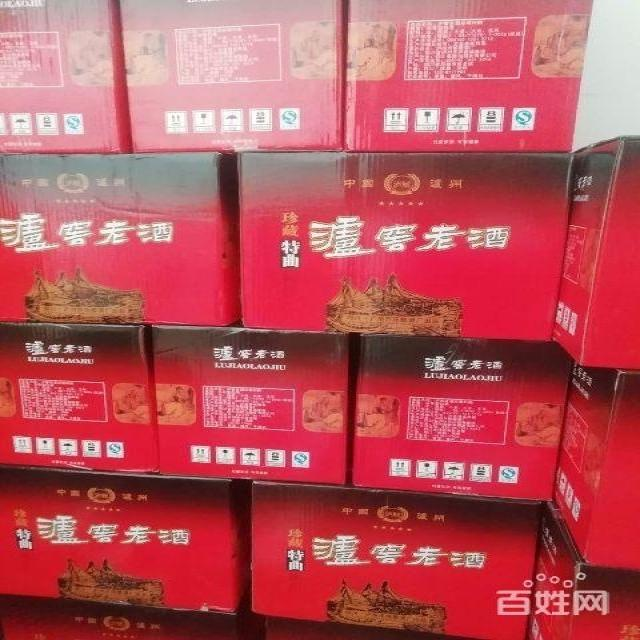box: (241, 151, 576, 338), (246, 484, 546, 638), (0, 150, 240, 330), (347, 332, 578, 500), (346, 2, 594, 152), (2, 466, 248, 616), (116, 2, 346, 151), (153, 319, 357, 486), (0, 317, 159, 471), (1, 0, 131, 152), (558, 135, 639, 371), (552, 368, 639, 570), (528, 501, 638, 639), (1, 592, 264, 639), (263, 613, 465, 639)
